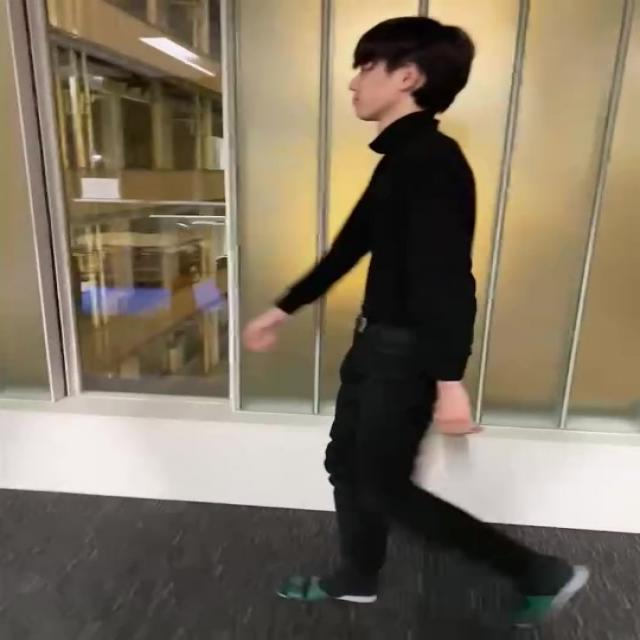direk: (231, 14, 585, 630)
